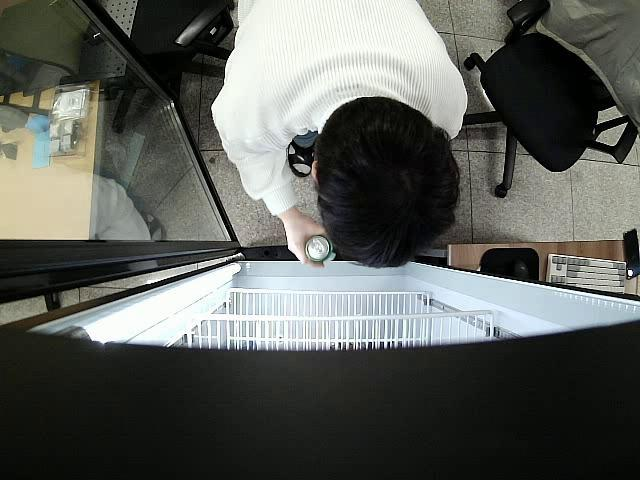12_chilsungCider: (303, 234, 337, 267)
